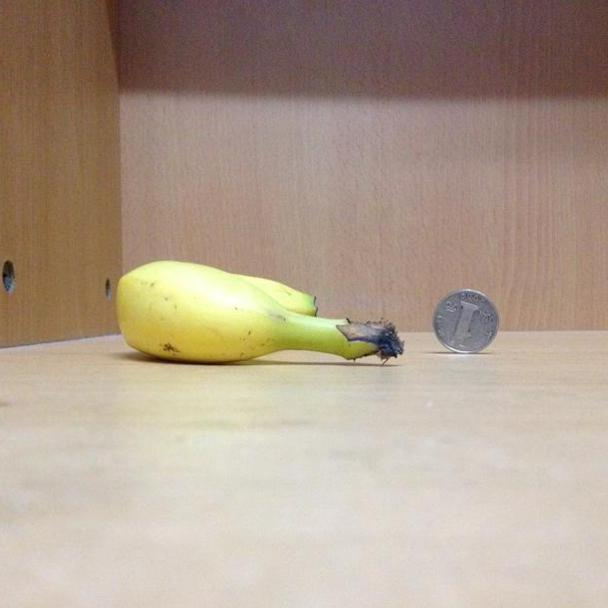banana: (106, 255, 409, 370)
